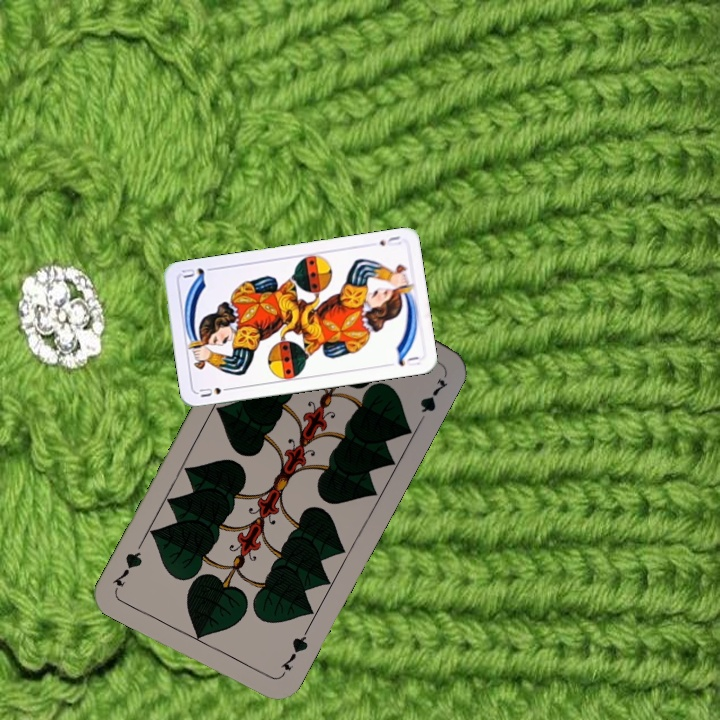G7: (275, 626, 311, 680)
SU: (195, 382, 235, 400), (376, 232, 404, 249)
